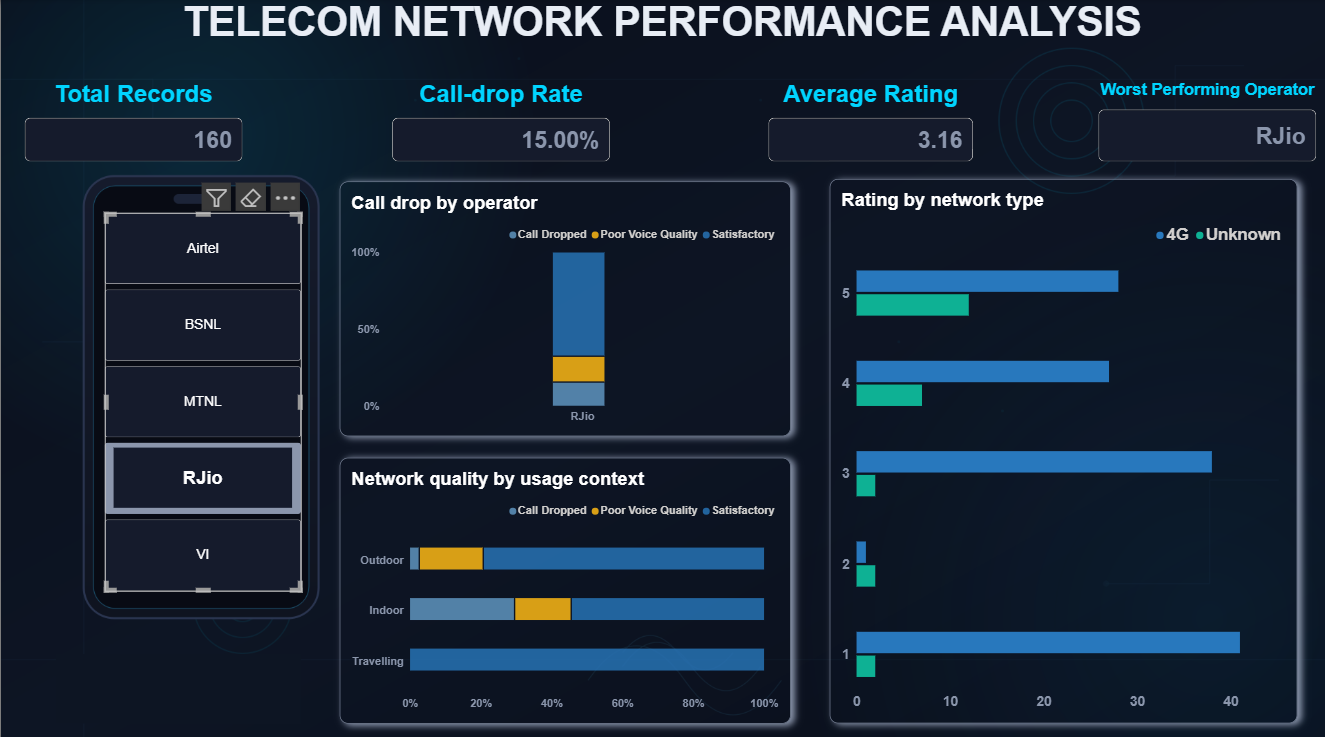

Layout of this report page (visuals, bound fields, positions):
{"tool":"powerbi","page":{"name":"Page 1","canvas":[1920,1080],"ordinal":0},"visuals":[{"type":"textbox","box":[10.3,0,1893.7,98.8],"z":0},{"type":"cardVisual","title":"Total Records","fields":{"Data":["Telecom Network.Total Records"]},"box":[35,117.3,315,118],"z":1000},{"type":"cardVisual","title":"Call-drop Rate","fields":{"Data":["Telecom Network.Call Drop Rate"]},"box":[566,117.3,315,118],"z":2000},{"type":"cardVisual","title":"Average Rating","fields":{"Data":["Telecom Network.Average Rating"]},"box":[1111.5,117.3,296,118],"z":3000},{"type":"cardVisual","title":"Worst Performing Operator","fields":{"Data":["Telecom Network.Worst Operator Name"]},"box":[1589,117.3,315,118],"z":4000},{"type":"hundredPercentStackedColumnChart","title":"Call drop by operator","fields":{"Category":["Telecom Network.operator"],"Y":["Telecom Network.Total Records"],"Series":["Telecom Network.calldrop_category"]},"box":[489.9,263.5,652.5,368.4],"z":5000},{"type":"clusteredBarChart","title":"Rating by network type","fields":{"Category":["Telecom Network.rating"],"Y":["Telecom Network.Total Records"],"Series":["Telecom Network.network_type"]},"box":[1200,261.4,677.2,788.3],"z":5002},{"type":"hundredPercentStackedBarChart","title":"Network quality by usage context","fields":{"Category":["Telecom Network.inout_travelling"],"Y":["Telecom Network.Total Records"],"Series":["Telecom Network.calldrop_category"]},"box":[489.9,664.8,652.5,384.9],"z":5003},{"type":"advancedSlicerVisual","fields":{"Values":["Telecom Network.operator"]},"box":[150.3,308.7,284,549.6],"z":5004},{"type":"textbox","box":[80.3,948.9,354,100.9],"z":5005}]}

Visuals, with their boxes in screenshot pixels (x1, y1, x2, y2), scaled from the page's 1920x1080 canvas onto the 1325x737 screenshot:
textbox: <box>7,0,1314,67</box>
"Total Records" cardVisual: <box>24,80,242,161</box>
"Call-drop Rate" cardVisual: <box>391,80,608,161</box>
"Average Rating" cardVisual: <box>767,80,971,161</box>
"Worst Performing Operator" cardVisual: <box>1097,80,1314,161</box>
"Call drop by operator" hundredPercentStackedColumnChart: <box>338,180,788,431</box>
"Rating by network type" clusteredBarChart: <box>828,178,1295,716</box>
"Network quality by usage context" hundredPercentStackedBarChart: <box>338,454,788,716</box>
advancedSlicerVisual - Telecom Network.operator: <box>104,211,300,586</box>
textbox: <box>55,648,300,716</box>
